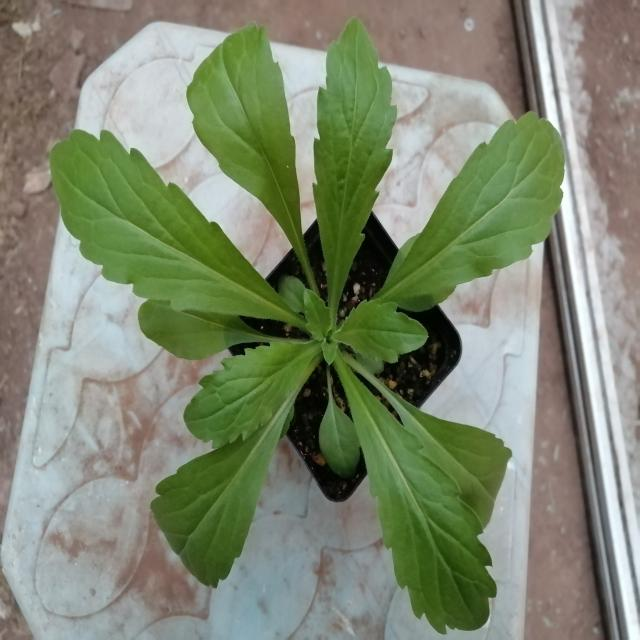horseweed: (64, 40, 551, 582)
